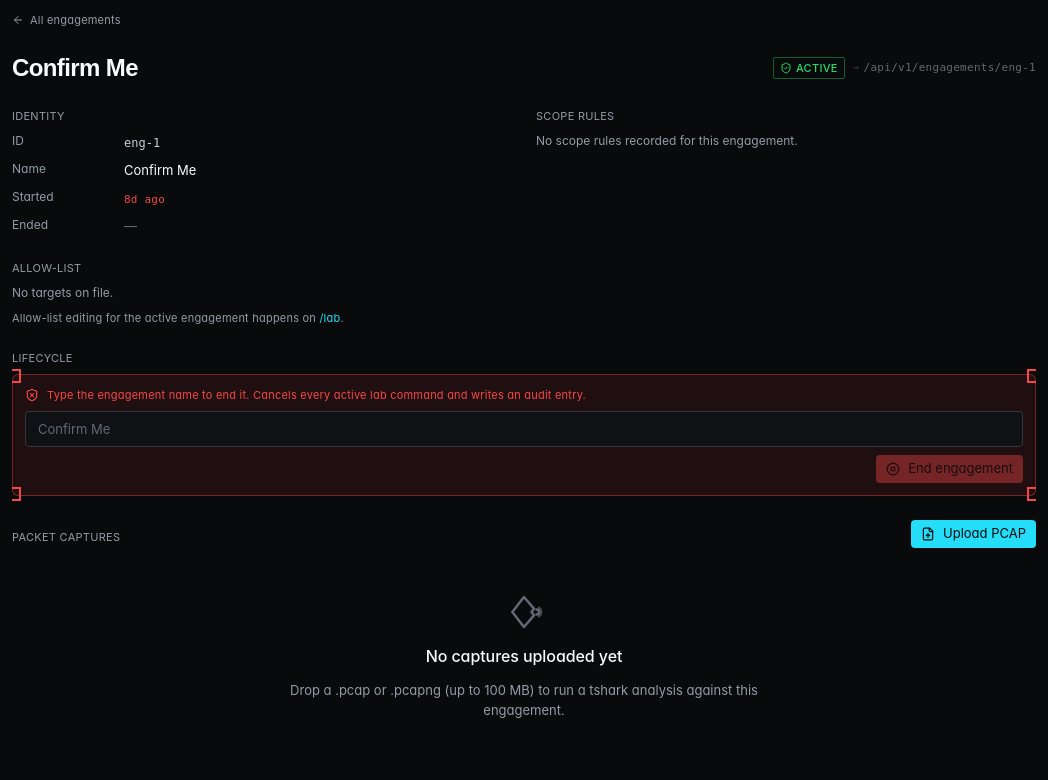
Test: EngagementDetailView › End button stays disabled until the operator types the name verbatim
The width and height of the screenshot is (1048, 780).
expect the form with test id "engagement-end-form" is shown: met, box [12,374,1036,496]
expect the button "End engagement" is disabled: met, box [876,455,1023,483]
In the field named "engagement name to confirm": x=524, y=429 [25,411,1023,447], type "Confirm M"
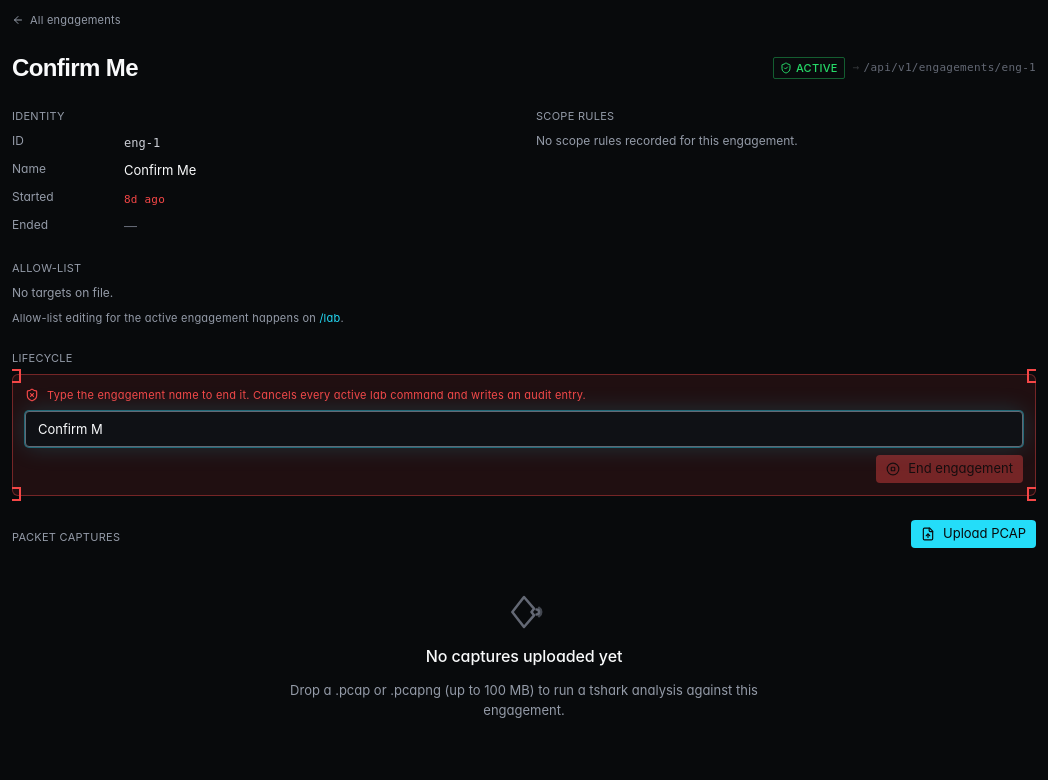
expect the button "End engagement" is disabled: met, box [876,455,1023,483]
In the field named "engagement name to confirm": x=524, y=429 [25,411,1023,447], type "e"
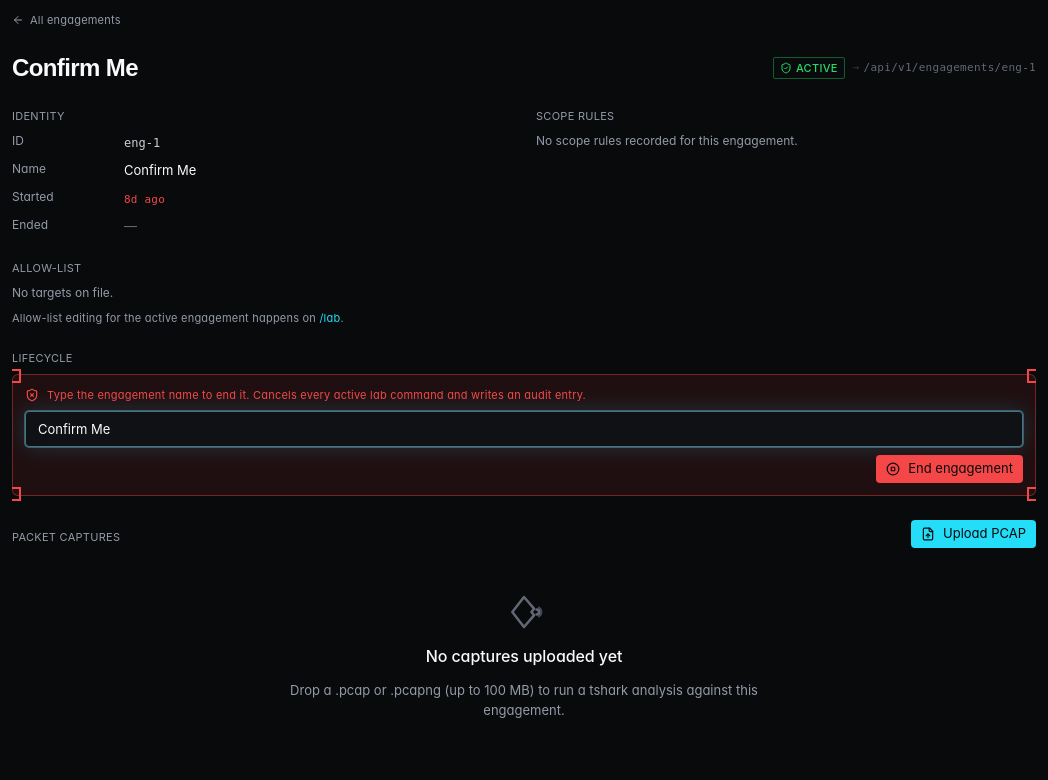
expect the button "End engagement" is enabled: met, box [876,455,1023,483]
